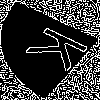K: (24, 24, 100, 78)
